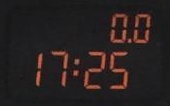-: (126, 37, 131, 44)
0: (108, 12, 127, 43), (132, 12, 151, 43)
1: (34, 51, 43, 87)
2: (82, 50, 105, 89)
5: (107, 50, 128, 89)
7: (50, 49, 68, 87)
X: (71, 57, 80, 76)
